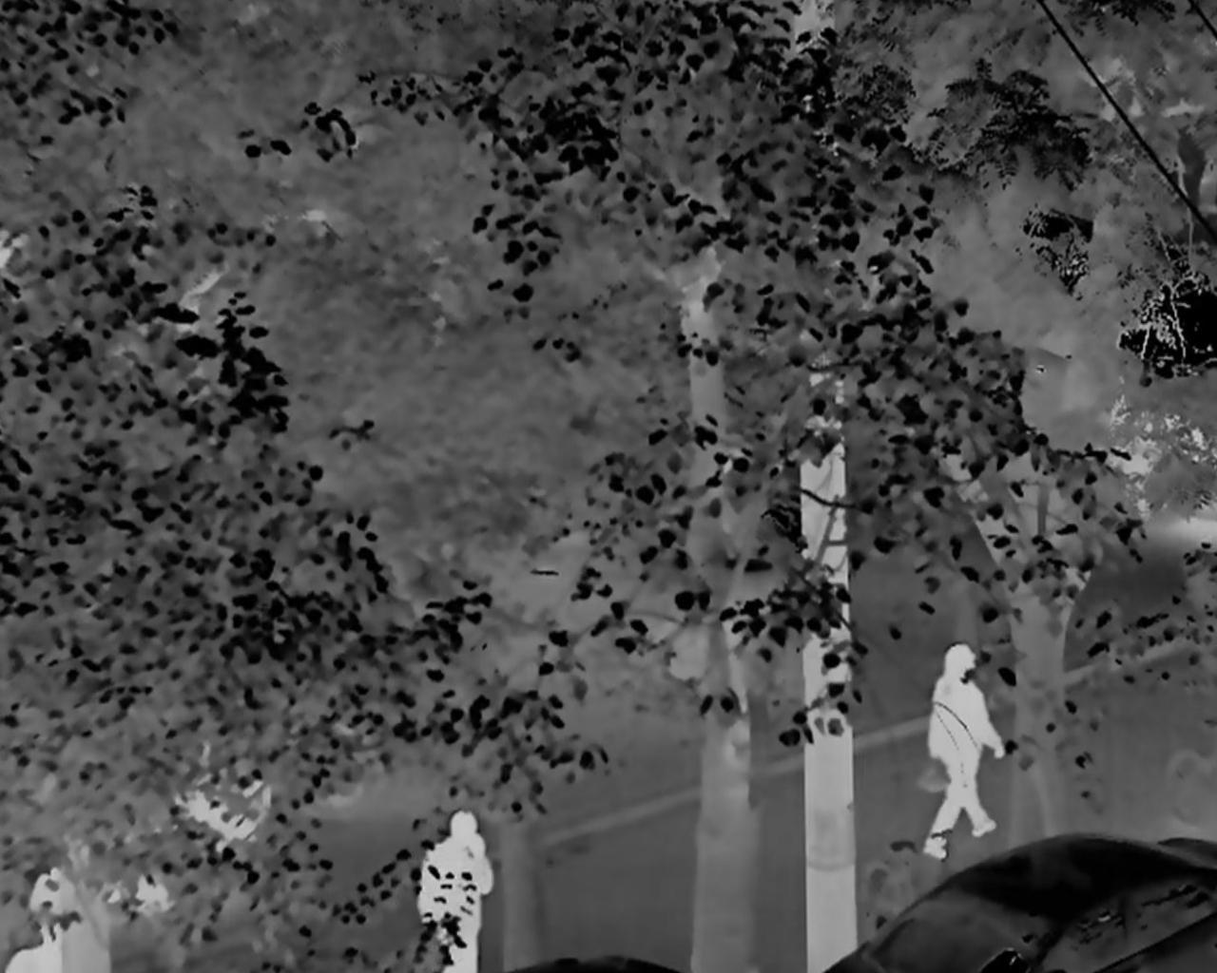person: (924, 640, 1008, 870), (418, 808, 493, 973)
